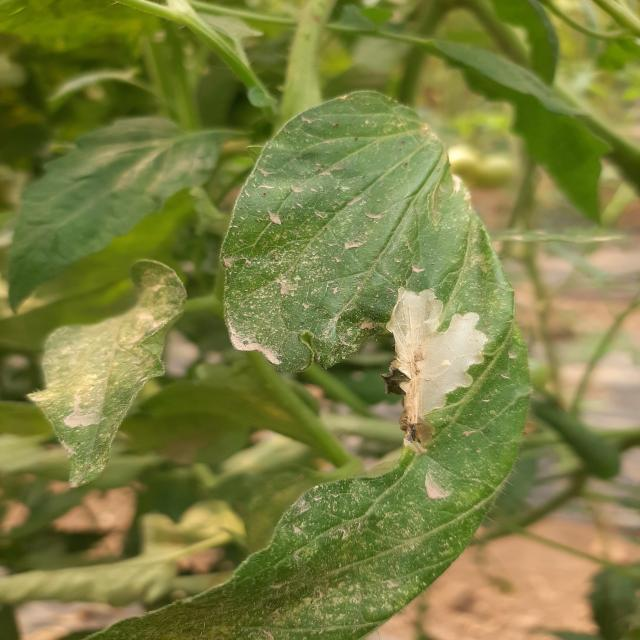Tuta absoluta: (353, 279, 499, 458)
